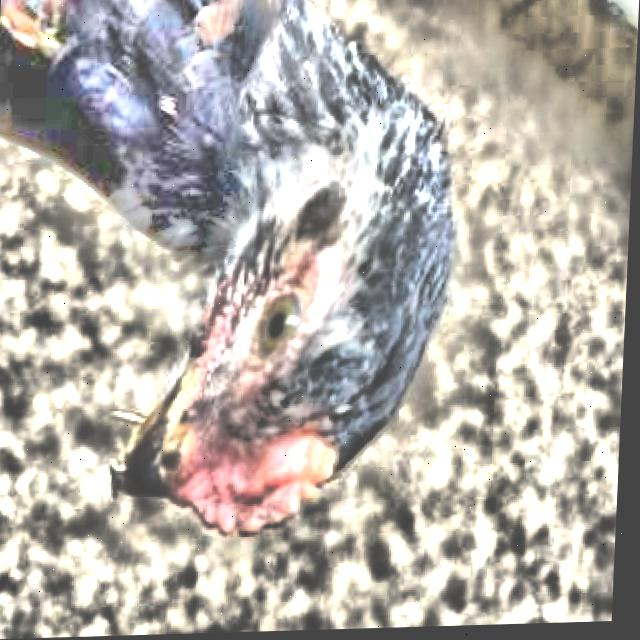Healthy: (221, 233, 353, 364)
